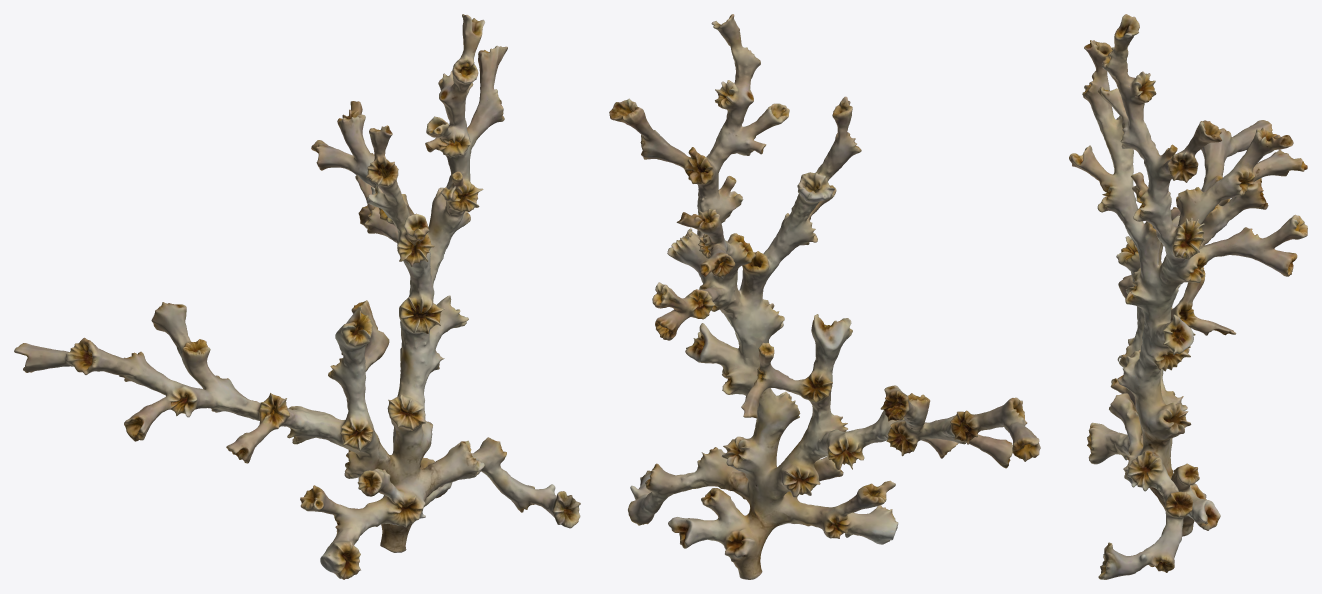
The picture shows the model from 3 angles, left to right: view 1: azimuth 30°, elevation 25°; view 2: azimuth 150°, elevation 25°; view 3: azimuth 270°, elevation 25°; orthographic projection. The views are drawn at different scales.
Visible parts, largest first — view 1: orientacao; view 2: orientacao; view 3: orientacao.
Part boxes in pixels (<box>): orientacao: <box>14,14,580,579</box>; orientacao: <box>609,14,1040,579</box>; orientacao: <box>1069,14,1307,579</box>.
Bounding box in the file's own units: 4599 × 4924 × 1972.
1 material, 1 textured.
